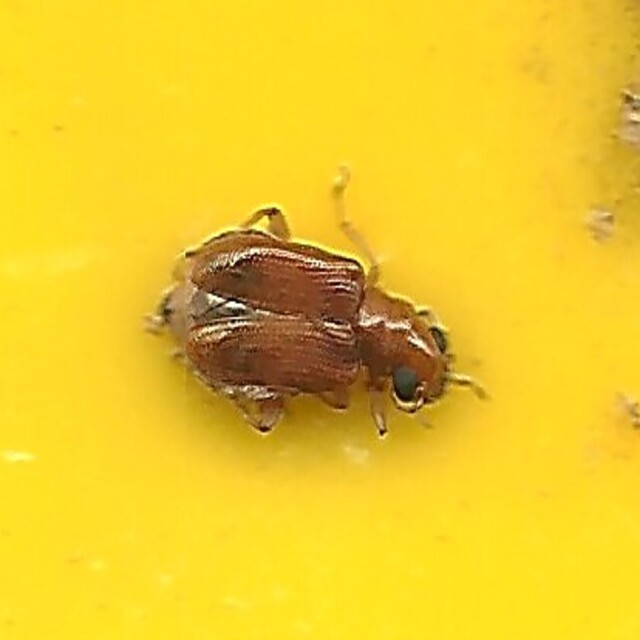Coleoptera: (155, 196, 485, 444)
